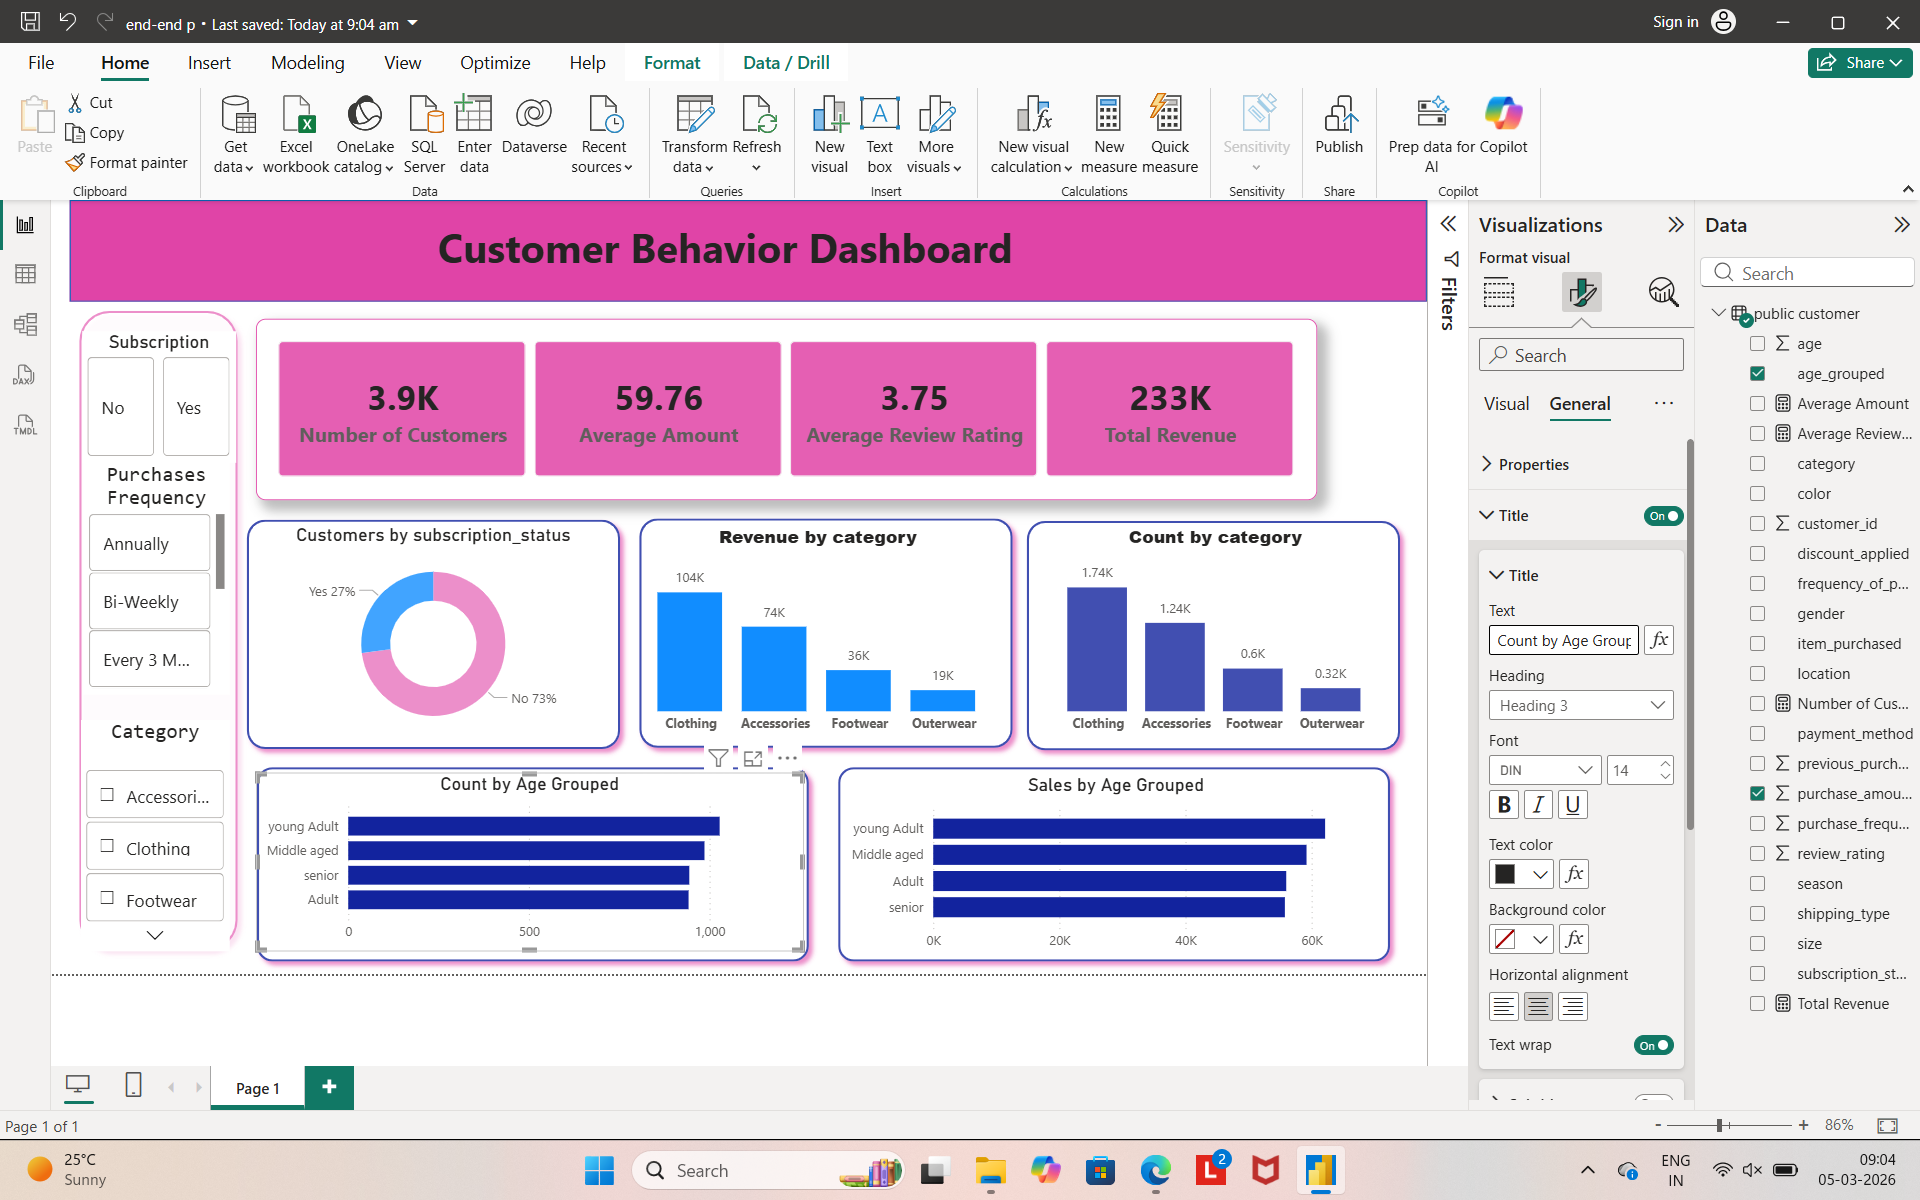

What the dashboard file says about the page in this screenshot:
{"tool":"powerbi","page":{"name":"Page 1","canvas":[1280,720],"ordinal":0},"visuals":[{"type":"cardVisual","fields":{"Data":["public customer.Number of Customers","public customer.Average Amount","public customer.Average Review Rating","public customer.Total Revenue"]},"box":[190.7,110.5,987.2,168.6],"z":0},{"type":"shape","box":[17.8,0,1262.4,94.7],"z":1000},{"type":"textbox","box":[17.8,13.7,1219.9,81],"z":2000},{"type":"shape","box":[173.3,288.4,365.1,231.4],"z":3000},{"type":"donutChart","title":"Customers by subscription_status","fields":{"Category":["public customer.subscription_status"],"Y":["public customer.Number of Customers"]},"box":[190.7,301.2,330.2,204.7],"z":4000},{"type":"shape","box":[538.4,287.2,365.1,231.4],"z":5000},{"type":"columnChart","title":" Revenue by category","fields":{"Category":["public customer.category"],"Y":["public customer.Total Revenue"]},"box":[527.9,301.2,370.9,204.7],"z":6000},{"type":"shape","box":[898.8,289.5,365.1,231.4],"z":7000},{"type":"columnChart","title":"Count by category","fields":{"Category":["public customer.category"],"Y":["CountNonNull(public customer.purchase_amount)"]},"box":[911.6,301.2,343,204.7],"z":8000},{"type":"shape","box":[17.4,94.2,165.1,612.8],"z":9000},{"type":"shape","box":[182.6,518.6,531.4,198.8],"z":10000},{"type":"shape","box":[723.3,518.6,531.4,198.8],"z":11000},{"type":"clusteredBarChart","title":"Count by Age Grouped","fields":{"Category":["public customer.age_grouped"],"Y":["CountNonNull(public customer.purchase_amount)"]},"box":[190.7,532.6,509.3,166.3],"z":12000},{"type":"clusteredBarChart","title":"Sales by Age Grouped","fields":{"Category":["public customer.age_grouped"],"Y":["Sum(public customer.purchase_amount)"]},"box":[734.9,533.7,511.6,173.3],"z":13000},{"type":"advancedSlicerVisual","title":"Subscription","fields":{"Values":["public customer.subscription_status"]},"box":[29.1,122.1,143,122.1],"z":14000},{"type":"advancedSlicerVisual","title":"Category","fields":{"Values":["public customer.category"]},"box":[27.9,483.7,138.4,215.1],"z":15000},{"type":"advancedSlicerVisual","fields":{"Values":["public customer.frequency_of_purchases"]},"box":[30.2,244.2,136,216.3],"z":15001}]}

Visuals, with their boxes on the page's 1280x720 design canvas (x1, y1, x2, y2). These are canvas units, not pixel positions in the 1920x1200 screenshot, which may show the page scaled, cropped or inside an application window:
cardVisual - public customer.Number of Customers x public customer.Average Amount: left=191, top=110, right=1178, bottom=279
shape: left=18, top=0, right=1280, bottom=95
textbox: left=18, top=14, right=1238, bottom=95
shape: left=173, top=288, right=538, bottom=520
"Customers by subscription_status" donutChart: left=191, top=301, right=521, bottom=506
shape: left=538, top=287, right=904, bottom=519
" Revenue by category" columnChart: left=528, top=301, right=899, bottom=506
shape: left=899, top=290, right=1264, bottom=521
"Count by category" columnChart: left=912, top=301, right=1255, bottom=506
shape: left=17, top=94, right=182, bottom=707
shape: left=183, top=519, right=714, bottom=717
shape: left=723, top=519, right=1255, bottom=717
"Count by Age Grouped" clusteredBarChart: left=191, top=533, right=700, bottom=699
"Sales by Age Grouped" clusteredBarChart: left=735, top=534, right=1246, bottom=707
"Subscription" advancedSlicerVisual: left=29, top=122, right=172, bottom=244
"Category" advancedSlicerVisual: left=28, top=484, right=166, bottom=699
advancedSlicerVisual - public customer.frequency_of_purchases: left=30, top=244, right=166, bottom=460
